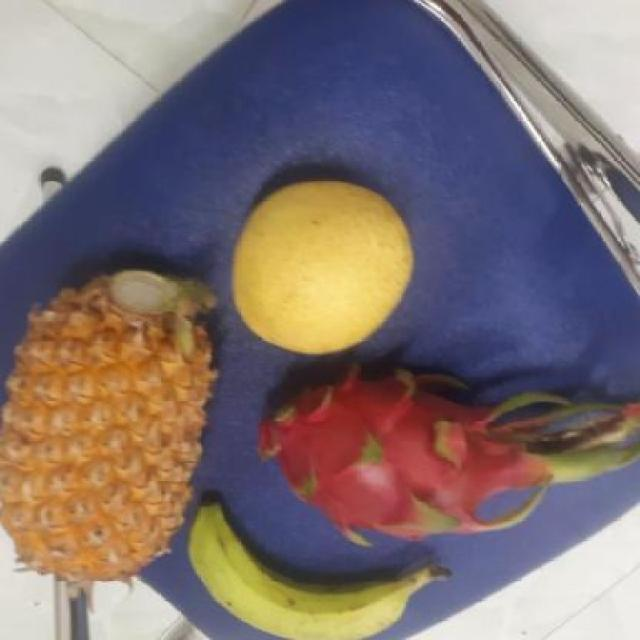banana: (180, 498, 426, 639)
dragon fruit: (236, 357, 536, 541)
pear: (221, 178, 417, 352)
pineapple: (0, 263, 218, 580)
